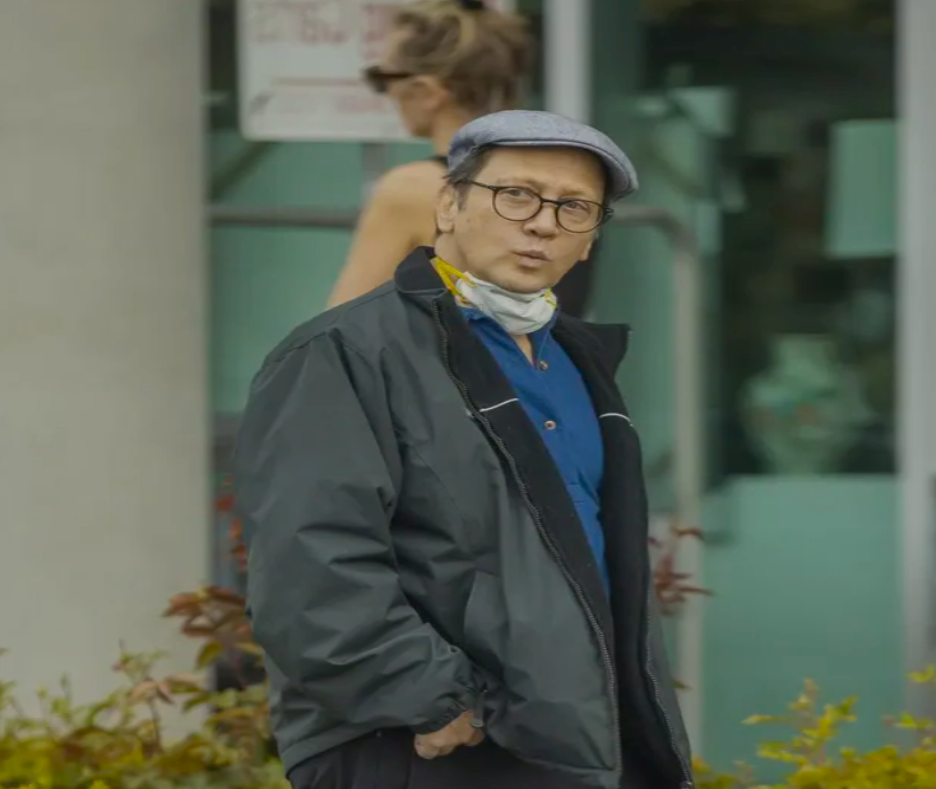mask_weared_incorrect: (411, 104, 640, 339)
